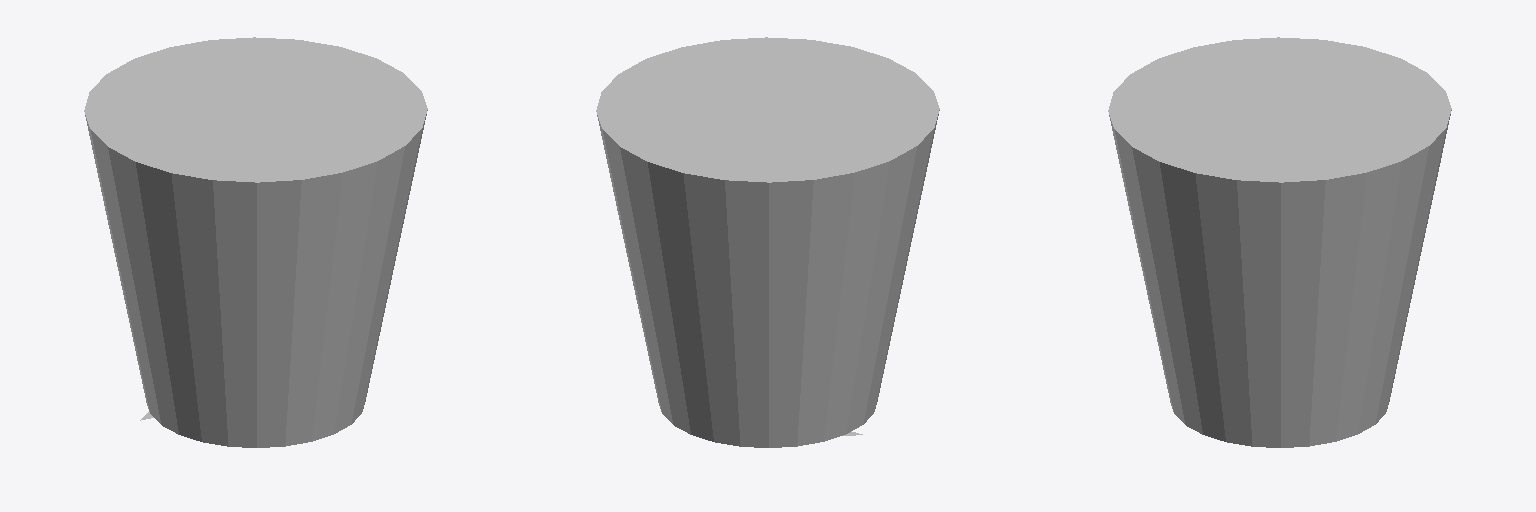
The model's file is original-5.obj.
3 views of the same model, side by side, from view 1: azimuth 30°, elevation 25°; view 2: azimuth 150°, elevation 25°; view 3: azimuth 270°, elevation 25° (orthographic).
Parts seen in each view (by area): view 1: group_3/ID38#ID38; view 2: group_3/ID38#ID38; view 3: group_3/ID38#ID38.
Boxes of the visible parts, <box> form: group_3/ID38#ID38: <box>84,37,427,447</box>; group_3/ID38#ID38: <box>596,37,939,447</box>; group_3/ID38#ID38: <box>1108,37,1451,447</box>.
Bounding box in the file's own units: 0.028 × 0.0262 × 0.028.